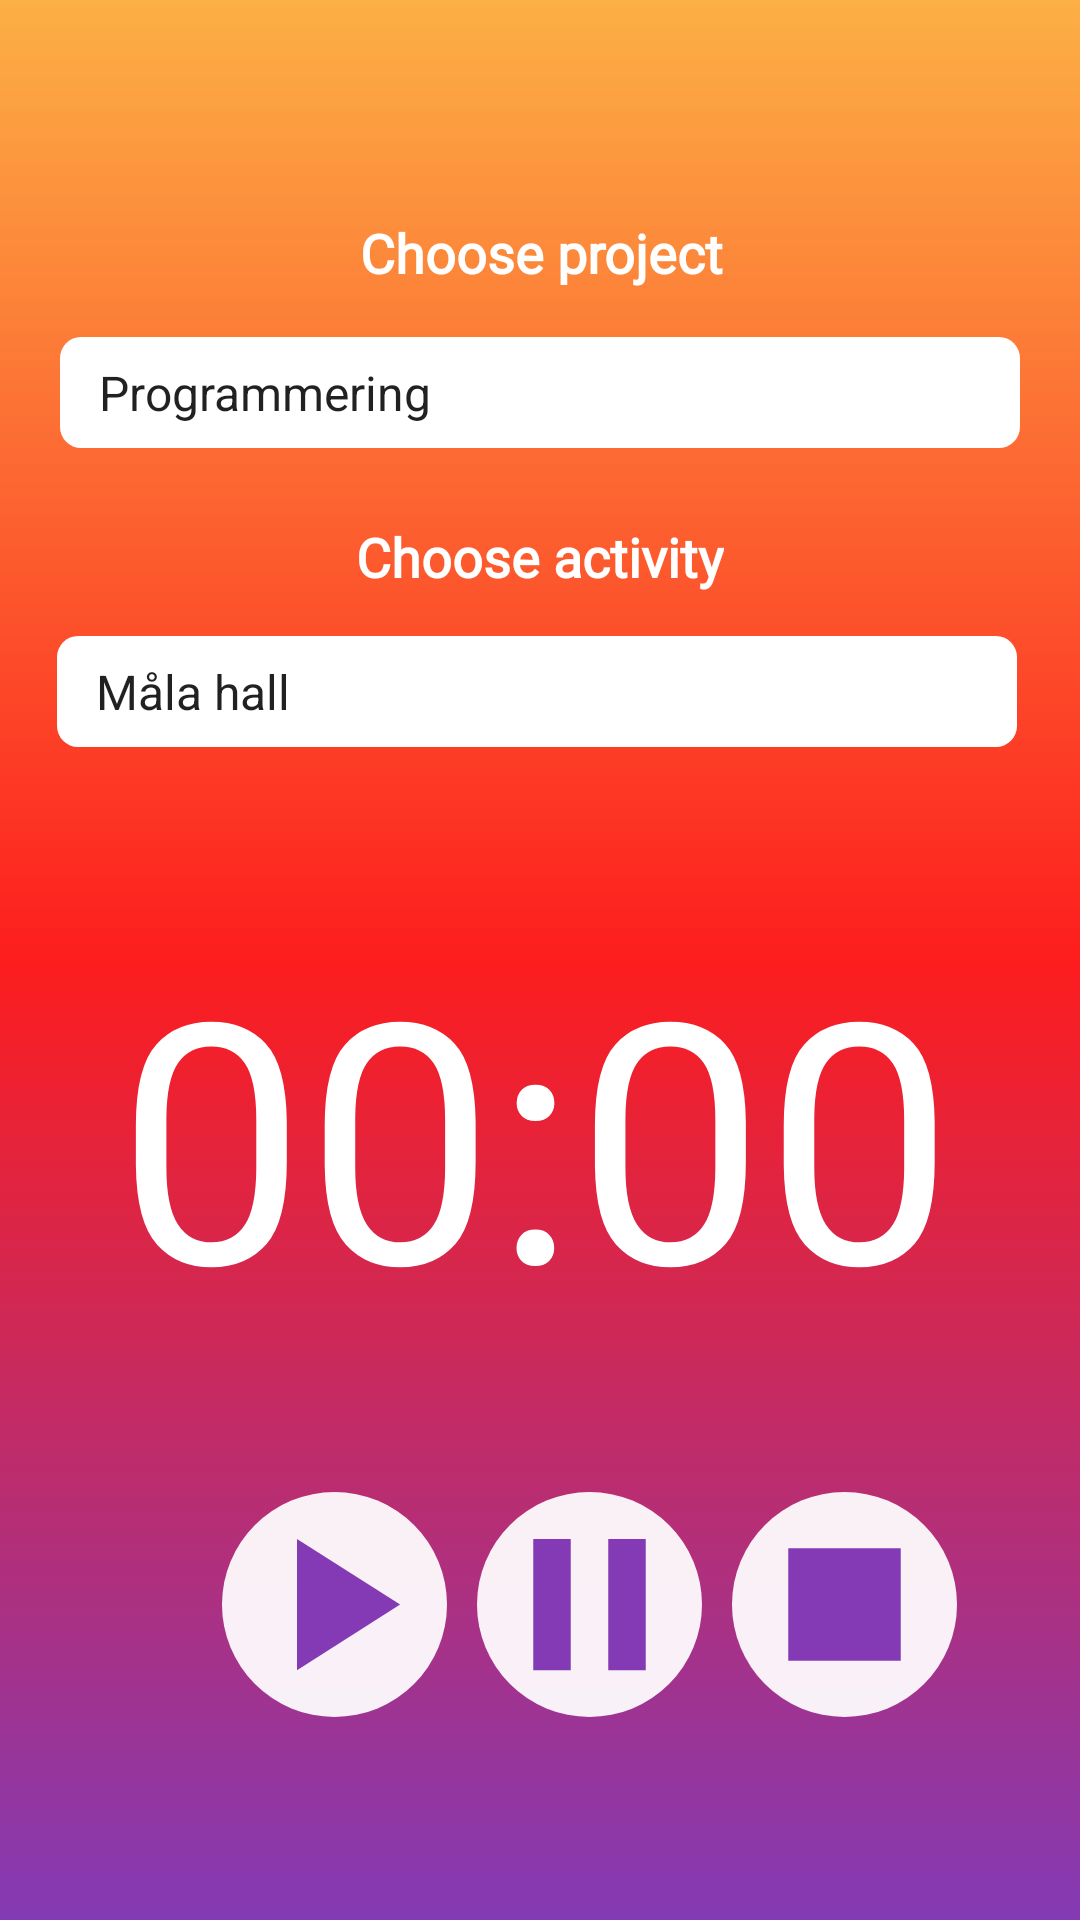

Screen size 1080x1920. Icon name, then its center in pixels as (x,y):
pause: (589,1604)
play arrow: (334,1604)
stop: (844,1604)
